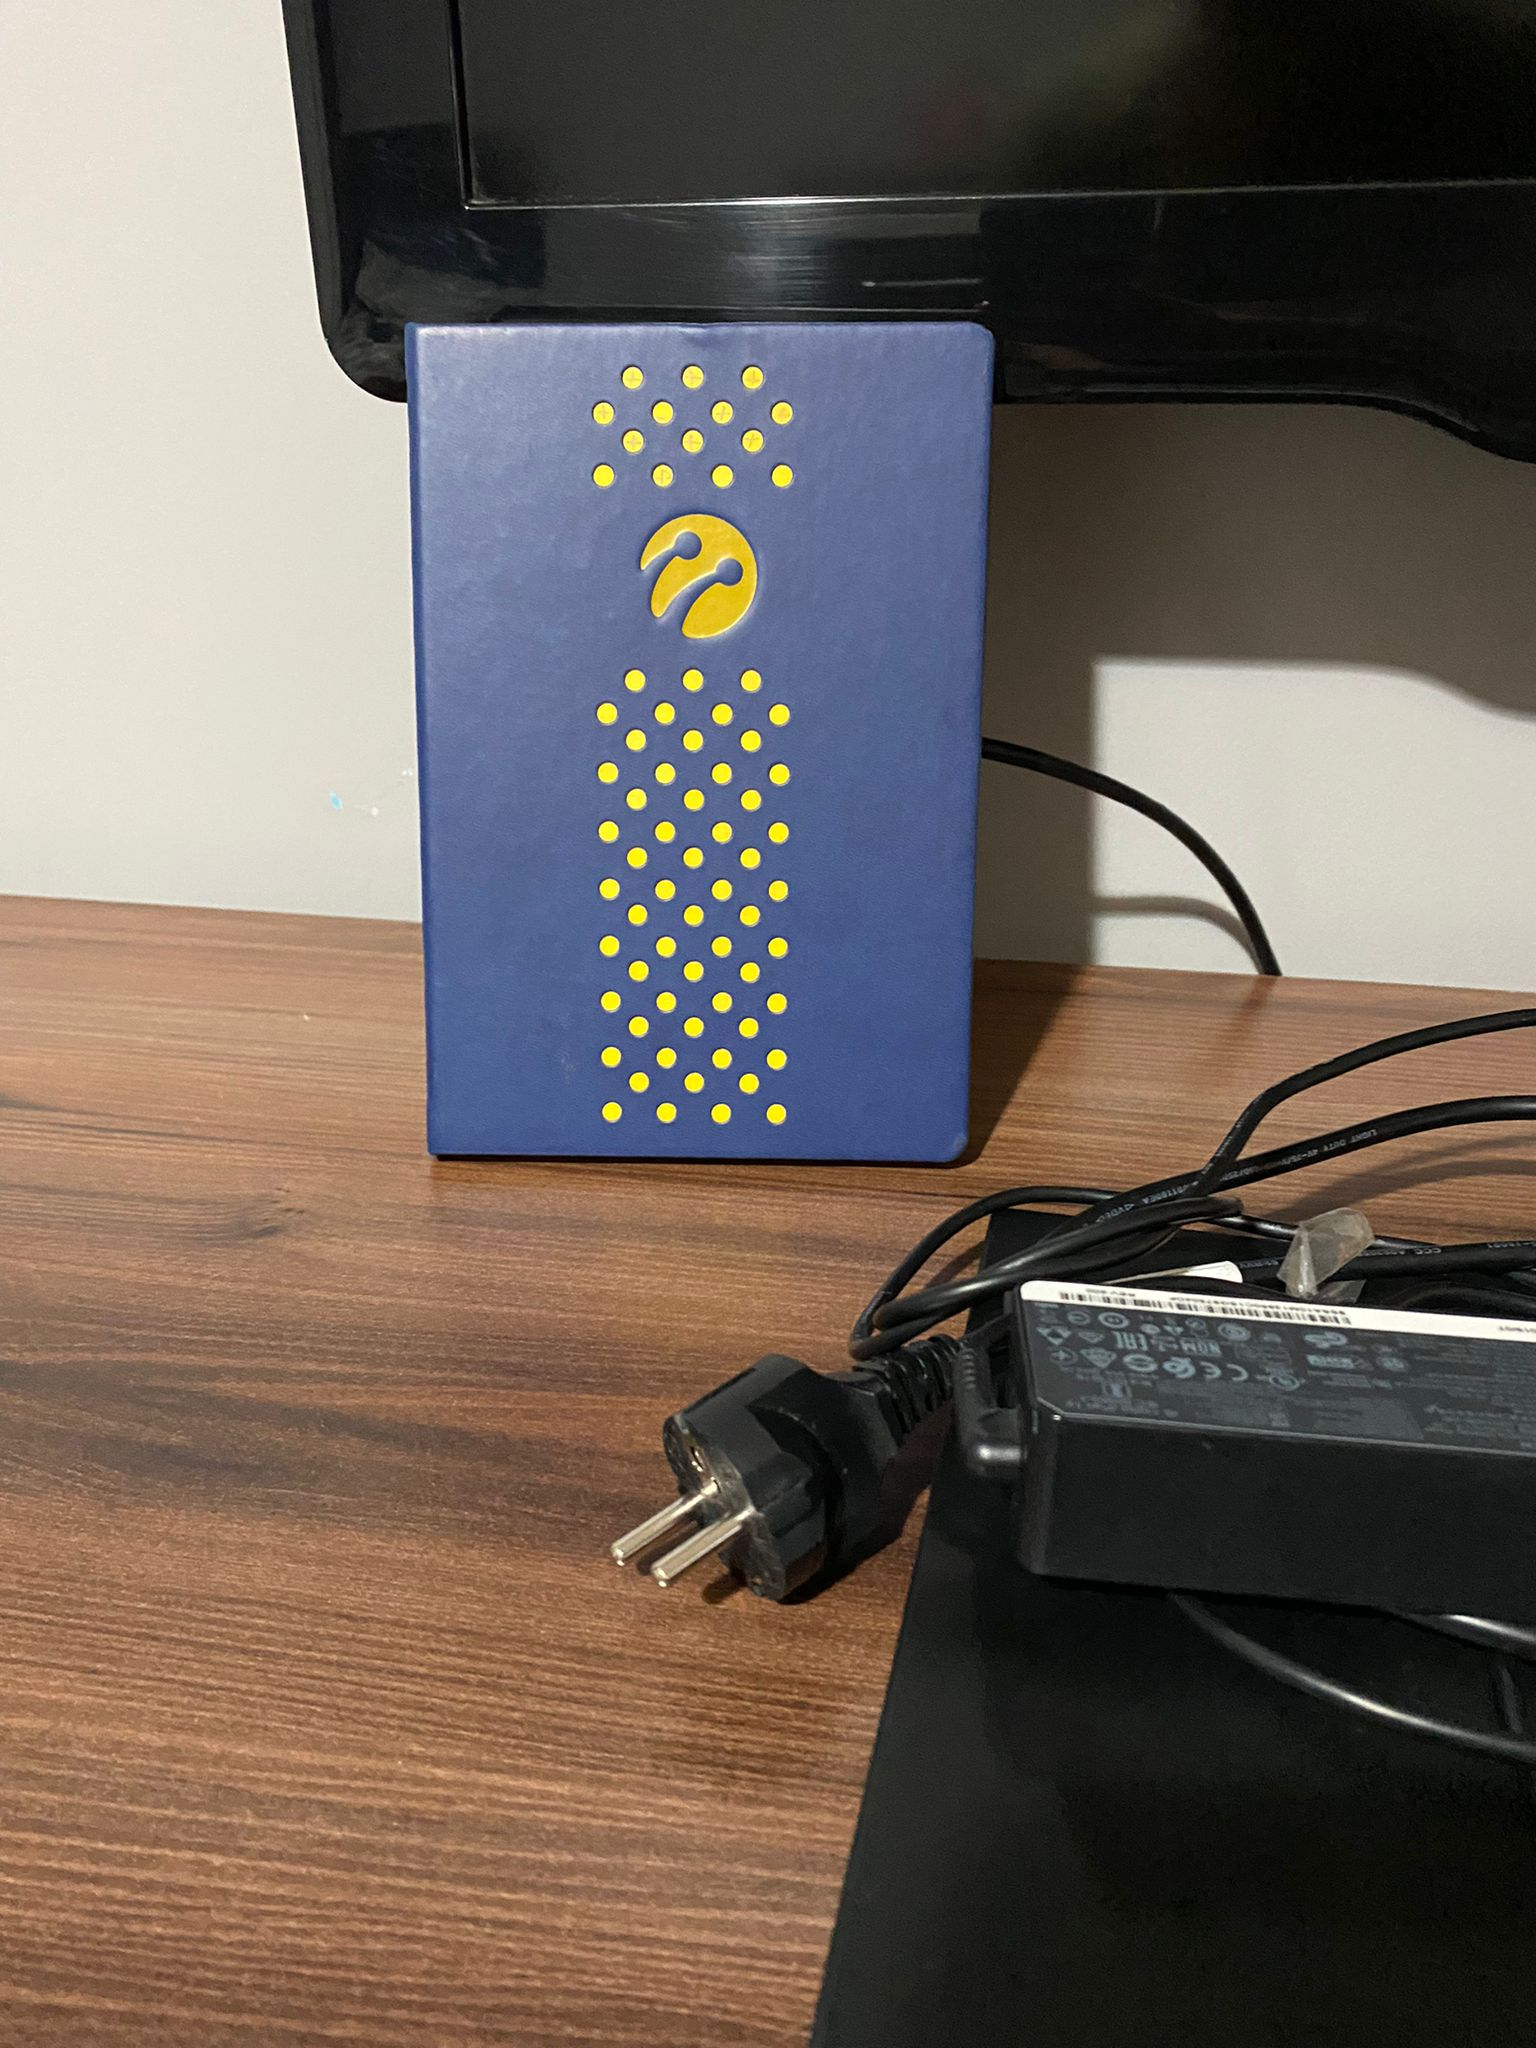turkcell: (637, 508, 762, 647)
